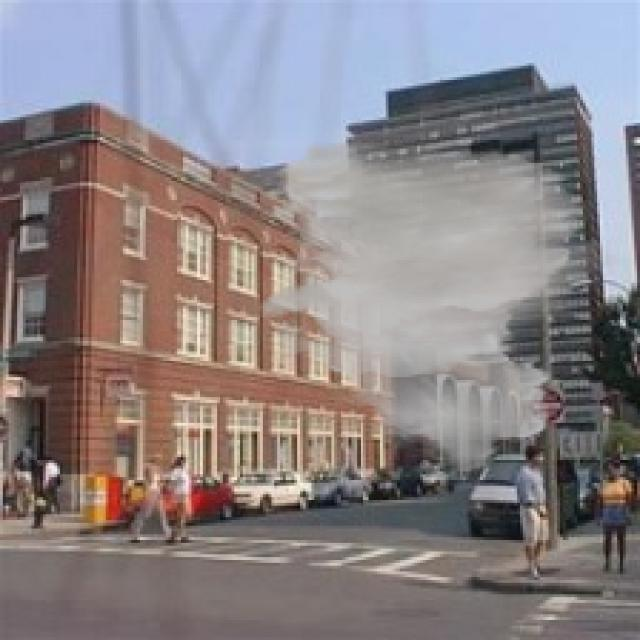Smoke: (257, 140, 632, 483)
